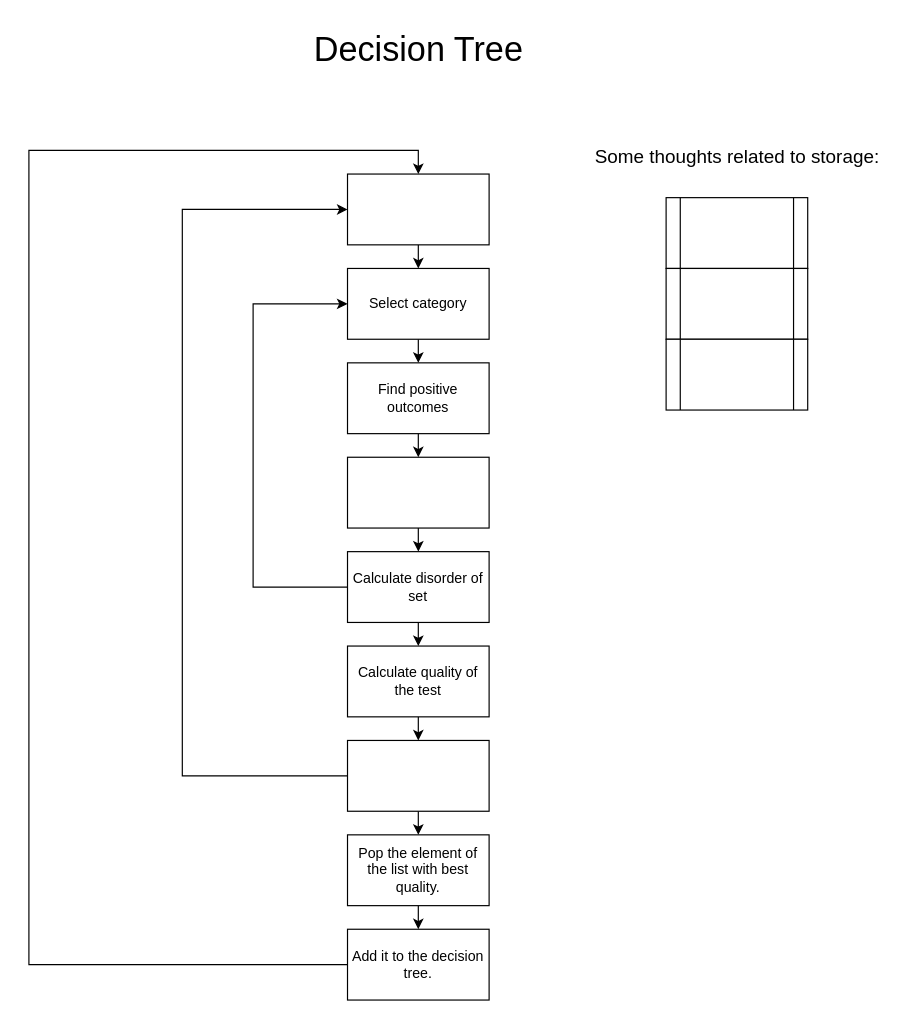
Image size: 911x1021. Some labels were removed from this diagram. Each missing label, with the centre of its shape:
Append to list of qualities.: the point at 417,775
Find negative outcomes: the point at 417,492
Select a test: the point at 417,209
